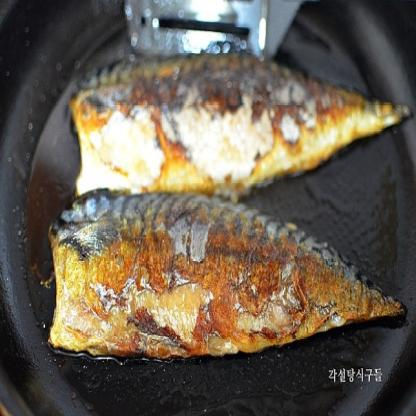Peixe: (43, 53, 416, 383)
